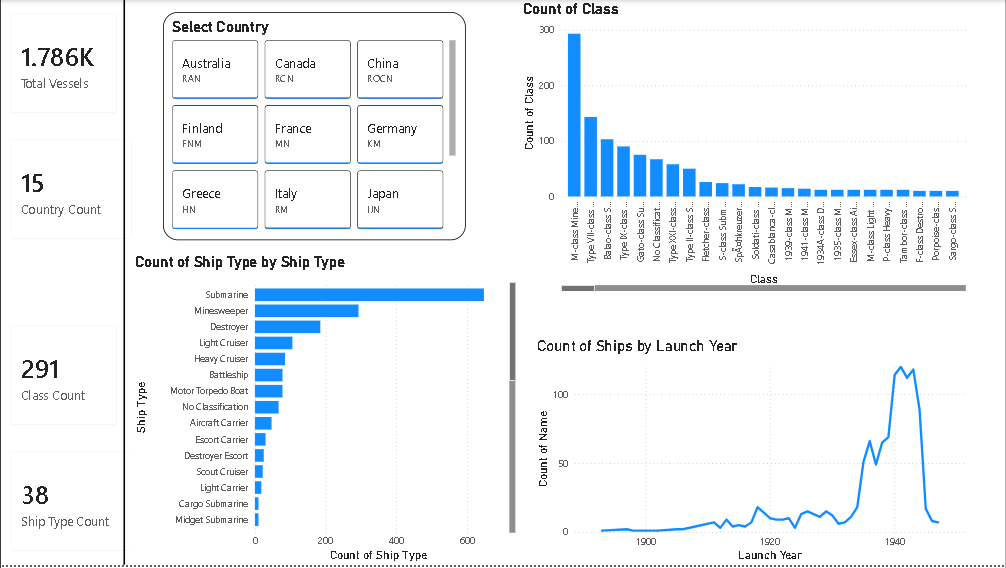

Layout of this report page (visuals, bound fields, positions):
{"tool":"powerbi","page":{"name":"Page 1","canvas":[1280,720],"ordinal":0},"visuals":[{"type":"cardVisual","fields":{"Data":["CountNonNull(ww2_ships.Name)"]},"box":[0,0,165.1,161.2],"z":0},{"type":"cardVisual","fields":{"Data":["Count(ww2_ships.Country)"]},"box":[0,160.7,184.8,161.9],"z":1000},{"type":"cardVisual","fields":{"Data":["Count(ww2_ships.Class)"]},"box":[0,397.6,165.1,161.2],"z":1001},{"type":"cardVisual","fields":{"Data":["Count(ww2_ships.Ship Type)"]},"box":[0,558.8,184.9,161.2],"z":1002},{"type":"shape","box":[92.5,0,128.1,719.9],"z":1003},{"type":"lineChart","title":"Count of Ships by Launch Year","fields":{"Category":["ww2_ships.Launch Year"],"Y":["CountNonNull(ww2_ships.Name)"]},"box":[677.6,429.3,557.4,290.6],"z":1004},{"type":"clusteredBarChart","fields":{"Category":["ww2_ships.Ship Type"],"Y":["CountNonNull(ww2_ships.Ship Type)"]},"box":[165.1,322.3,495.4,397.6],"z":1005},{"type":"columnChart","title":"Count of Class","fields":{"Y":["CountNonNull(ww2_ships.Class)"],"Category":["ww2_ships.Class"]},"box":[660.5,0,574.6,376.5],"z":1006},{"type":"advancedSlicerVisual","fields":{"Values":["ww2_ships.Country"],"Label":["Min(ww2_ships.Navy Acronym)"]},"box":[206.1,15.9,385.7,290.6],"z":1007}]}

Visuals, with their boxes in screenshot pixels (x1, y1, x2, y2), scaled from the page's 1280x720 canvas onto the 1006x568 screenshot:
cardVisual - CountNonNull(ww2_ships.Name): Rect(0, 0, 130, 127)
cardVisual - Count(ww2_ships.Country): Rect(0, 127, 145, 254)
cardVisual - Count(ww2_ships.Class): Rect(0, 314, 130, 441)
cardVisual - Count(ww2_ships.Ship Type): Rect(0, 441, 145, 567)
shape: Rect(73, 0, 173, 567)
"Count of Ships by Launch Year" lineChart: Rect(533, 339, 971, 567)
clusteredBarChart - ww2_ships.Ship Type x CountNonNull(ww2_ships.Ship Type): Rect(130, 254, 519, 567)
"Count of Class" columnChart: Rect(519, 0, 971, 297)
advancedSlicerVisual - ww2_ships.Country x Min(ww2_ships.Navy Acronym): Rect(162, 13, 465, 242)
